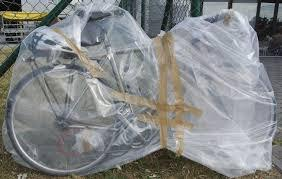Plastic bag: (6, 6, 276, 178)
